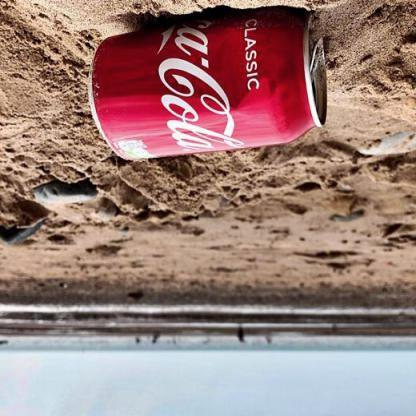Metal: (86, 10, 335, 166)
